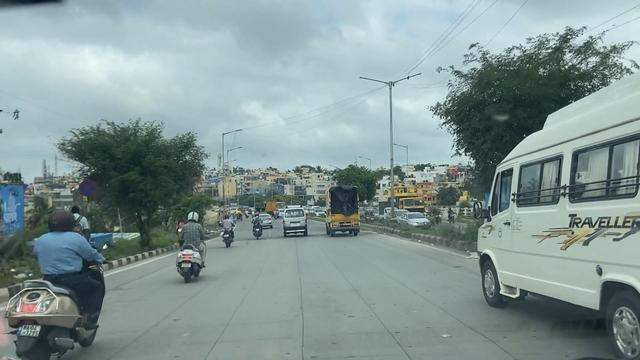HMV: (473, 123, 640, 353), (325, 173, 362, 245)
LMV: (8, 216, 105, 356), (174, 213, 209, 285), (275, 205, 310, 237)
